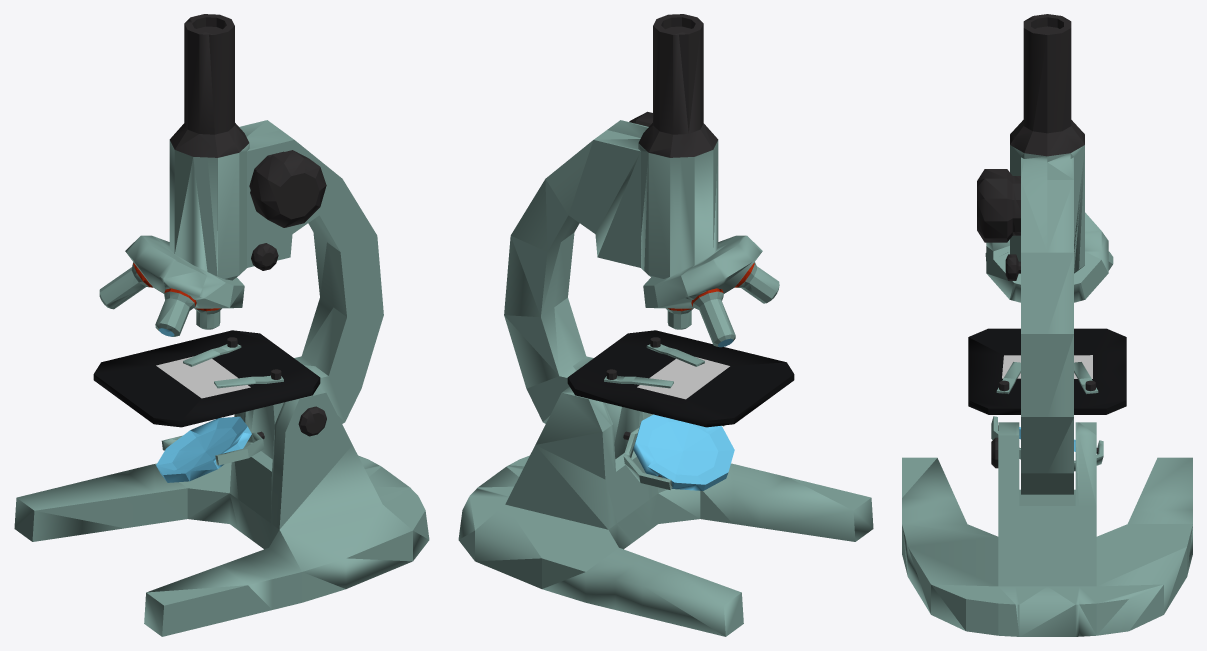
File: microscope.fbx
The picture shows the model from 3 angles, left to right: view 1: azimuth 30°, elevation 25°; view 2: azimuth 150°, elevation 25°; view 3: azimuth 270°, elevation 25°; orthographic projection.
Parts seen in each view (by area): view 1: Microscope; view 2: Microscope; view 3: Microscope.
Part boxes in pixels (x1,y1,x2,y2): Microscope: (14, 14, 429, 636); Microscope: (458, 14, 873, 636); Microscope: (902, 14, 1192, 636).
Size of the model in its own units: 22.4 by 36.32 by 18.38.
Materials: 2 (1 with a texture image).
